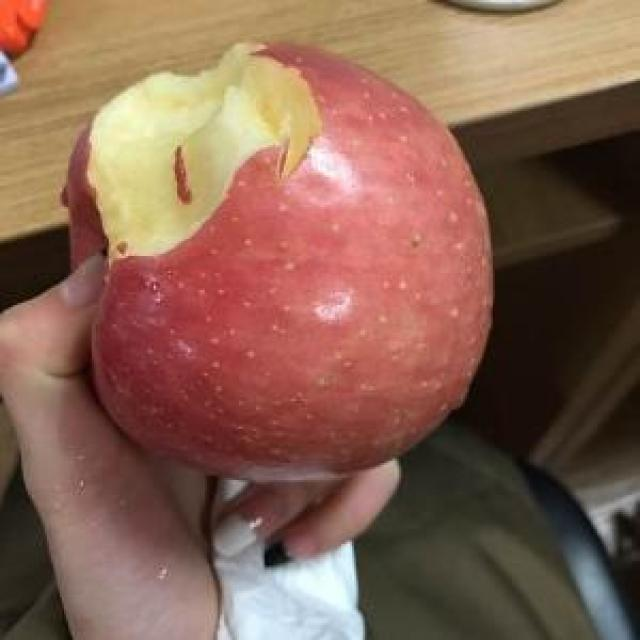Rotten: (54, 29, 497, 486)
